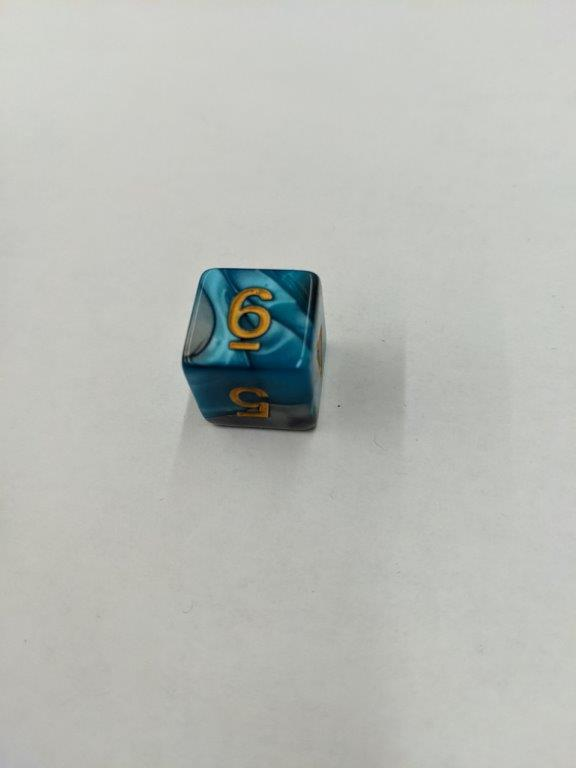d6-6: (180, 268, 333, 431)
